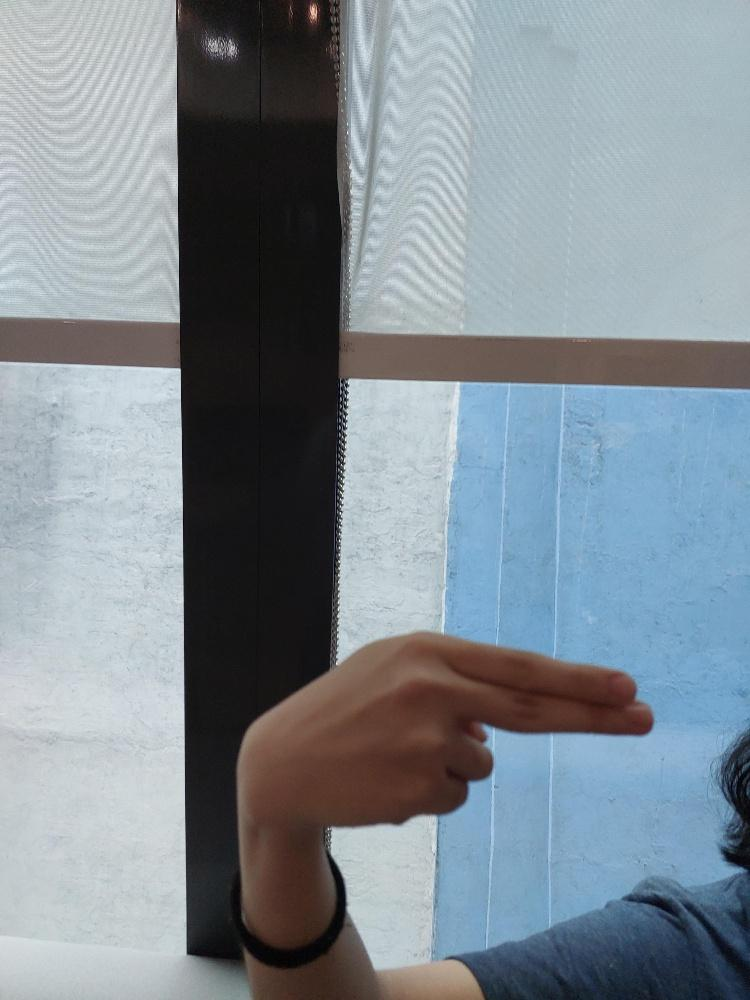h: (234, 628, 654, 828)
